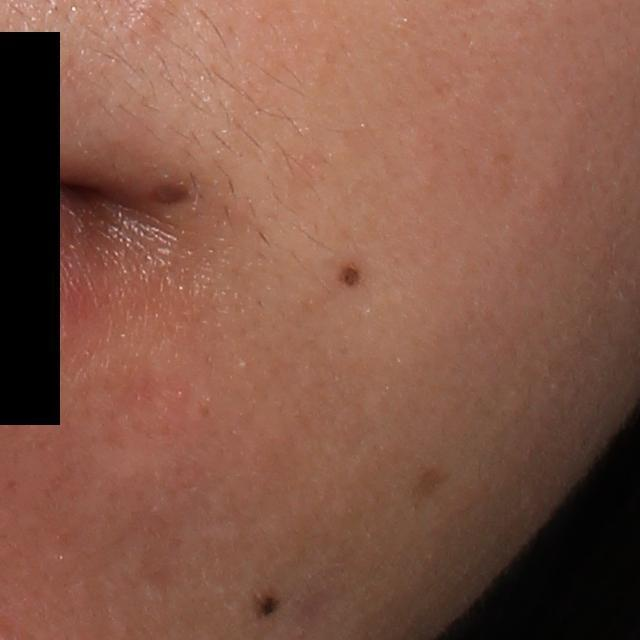nevus: (341, 263, 368, 294), (258, 595, 283, 624)
